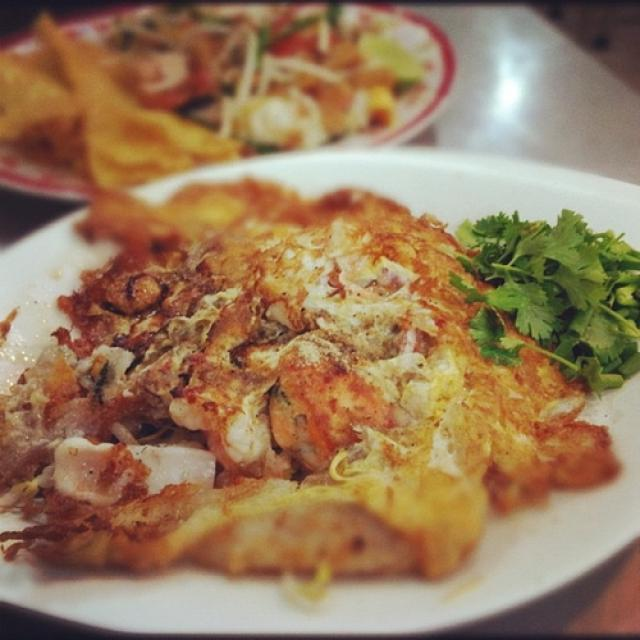炸货点心: (5, 117, 630, 616)
蛋糕甜品: (5, 117, 630, 616)
